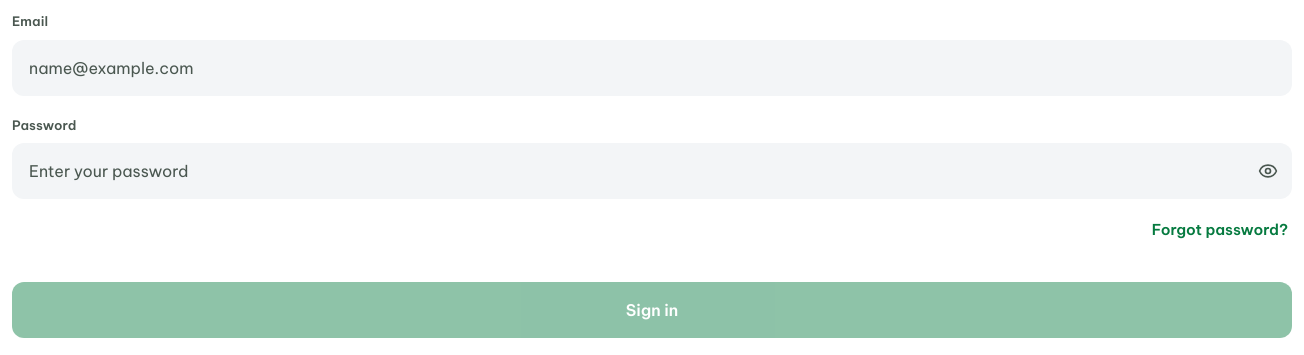
Test: SignInForm › tells the person to wait while a slow server wakes up, and blocks double sends
Type "ada@example.com" into the field labelled "Email" at x=652, y=68, box [12,40,1292,96]
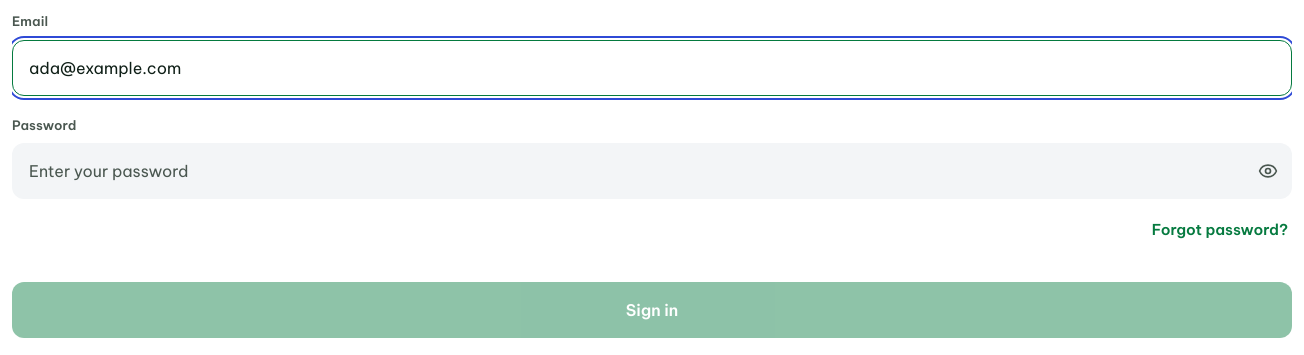
Type "correct horse battery" into the password field labelled "Password" at x=652, y=171, box [12,143,1292,199]
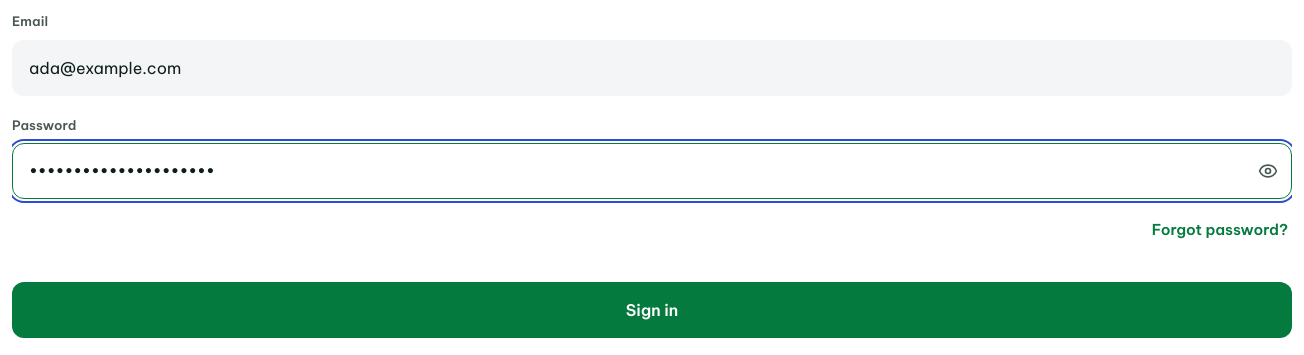
Click the button "Sign in" at x=652, y=310, box [12,282,1292,338]
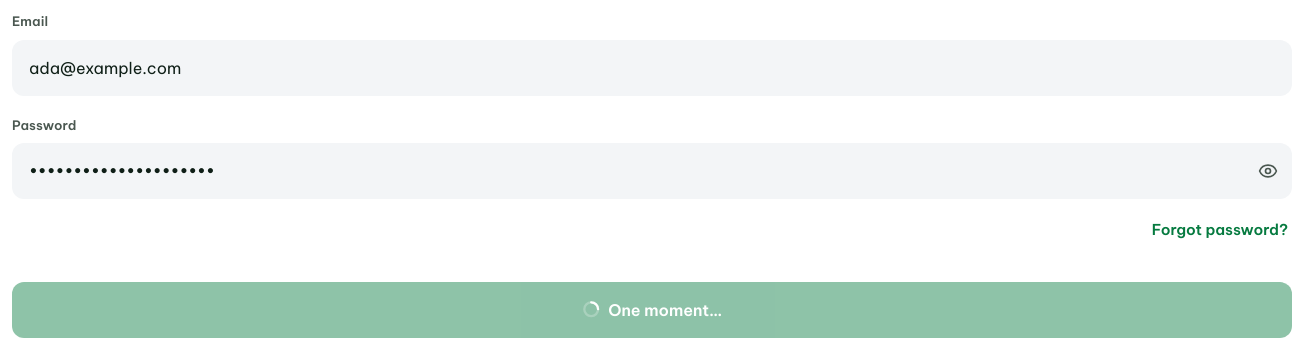
expect the button "One moment…" is disabled: met, box [12,282,1292,338]
